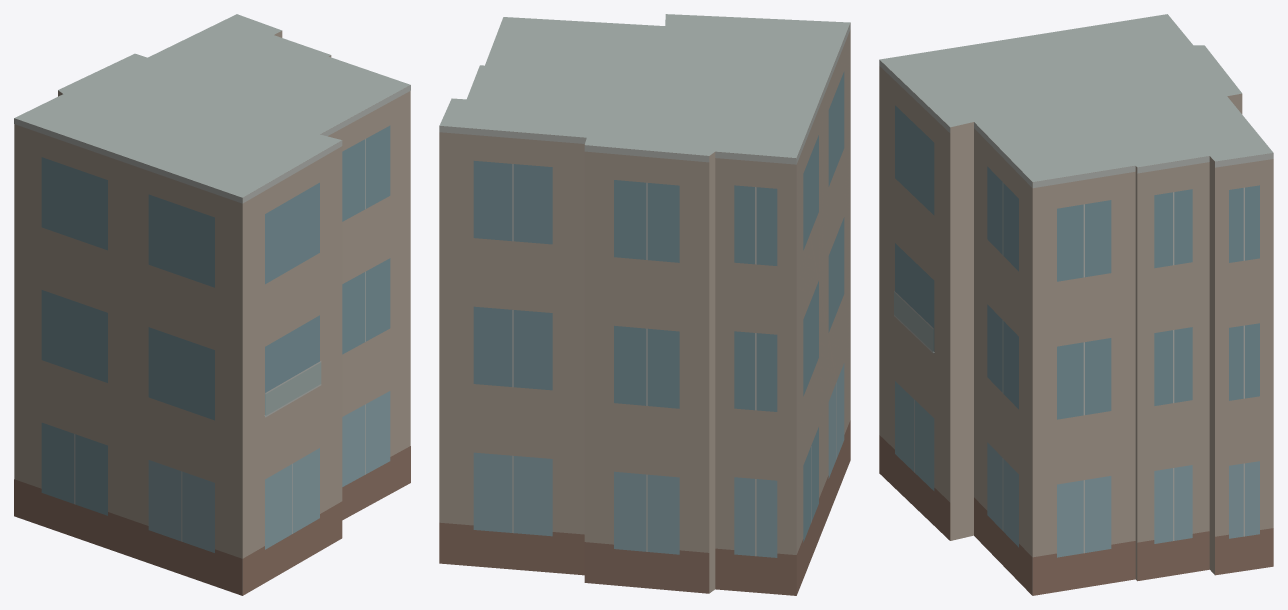
File: survey-upis-32496671.glb
3 views of the same model, side by side, from view 1: azimuth 30°, elevation 25°; view 2: azimuth 150°, elevation 25°; view 3: azimuth 270°, elevation 25° (orthographic). The views are drawn at different scales.
Parts seen in each view (by area): view 1: survey-upis-32496671.tmp; view 2: survey-upis-32496671.tmp; view 3: survey-upis-32496671.tmp.
Boxes of the visible parts, box(x1,y1,x2,y2) form: survey-upis-32496671.tmp: box(14, 14, 410, 595); survey-upis-32496671.tmp: box(439, 14, 850, 595); survey-upis-32496671.tmp: box(879, 14, 1273, 595).
Bounding box in the file's own units: 14.39 × 16.5 × 14.26.
